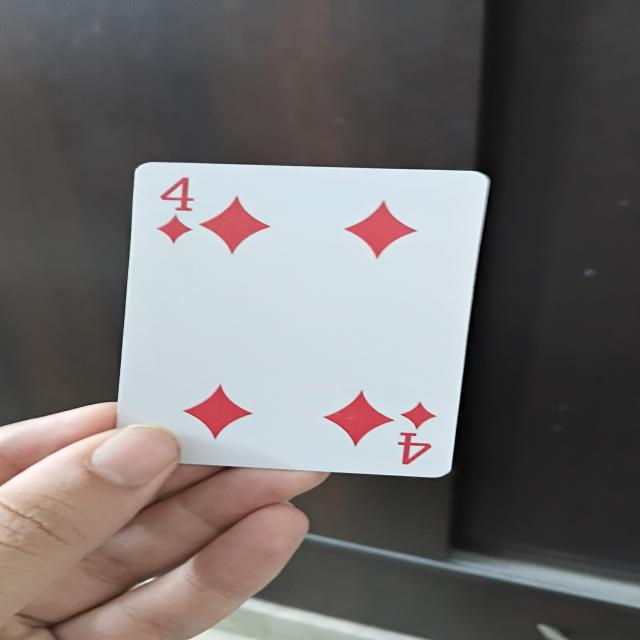4D: (114, 159, 478, 482)
